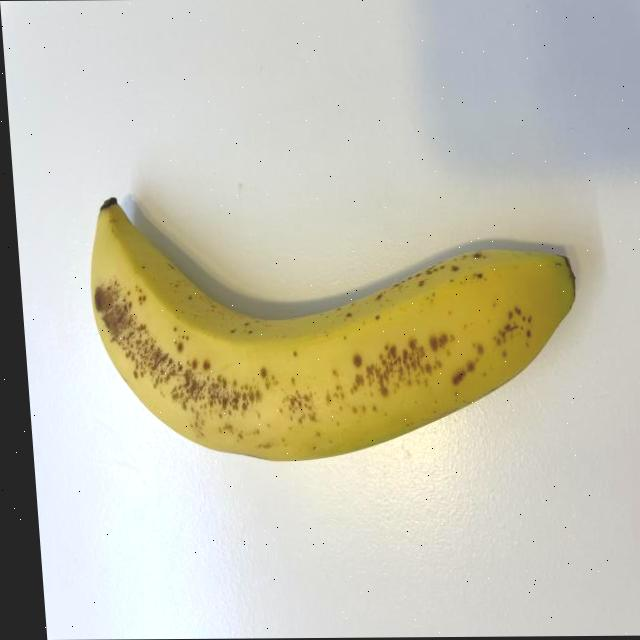banana: (74, 183, 587, 466)
